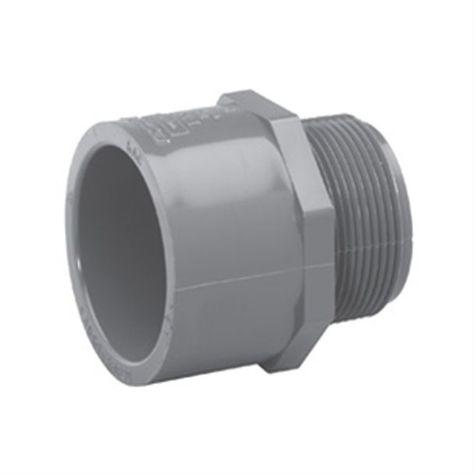PVC: (62, 88, 411, 387)
